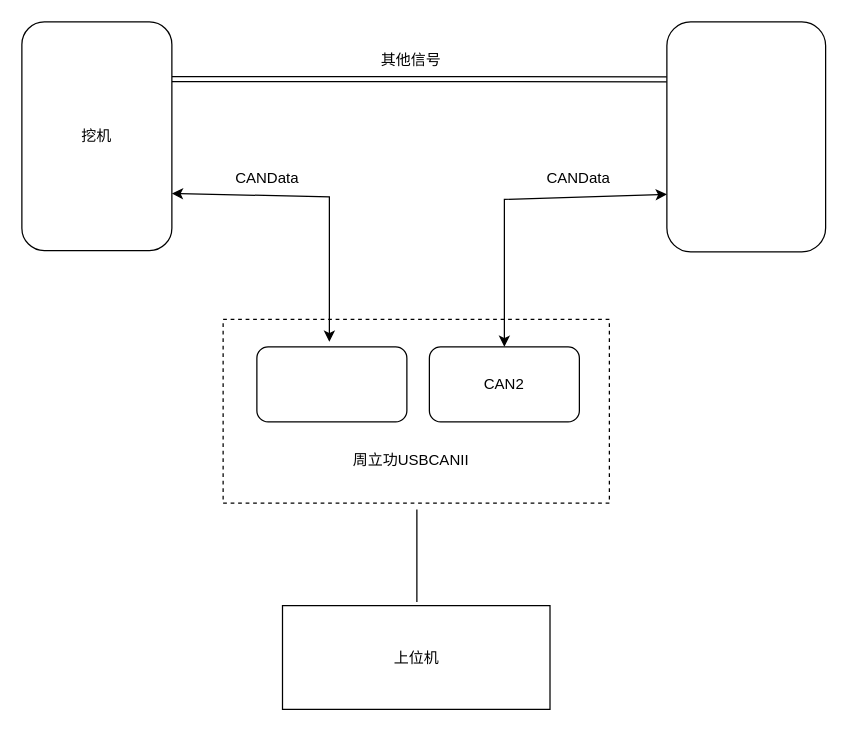
This 848x731 diagram has some shape labels left out. Each missing label, with the box of its shape:
CAN1: (256, 346, 407, 422)
发动机: (666, 21, 826, 252)
